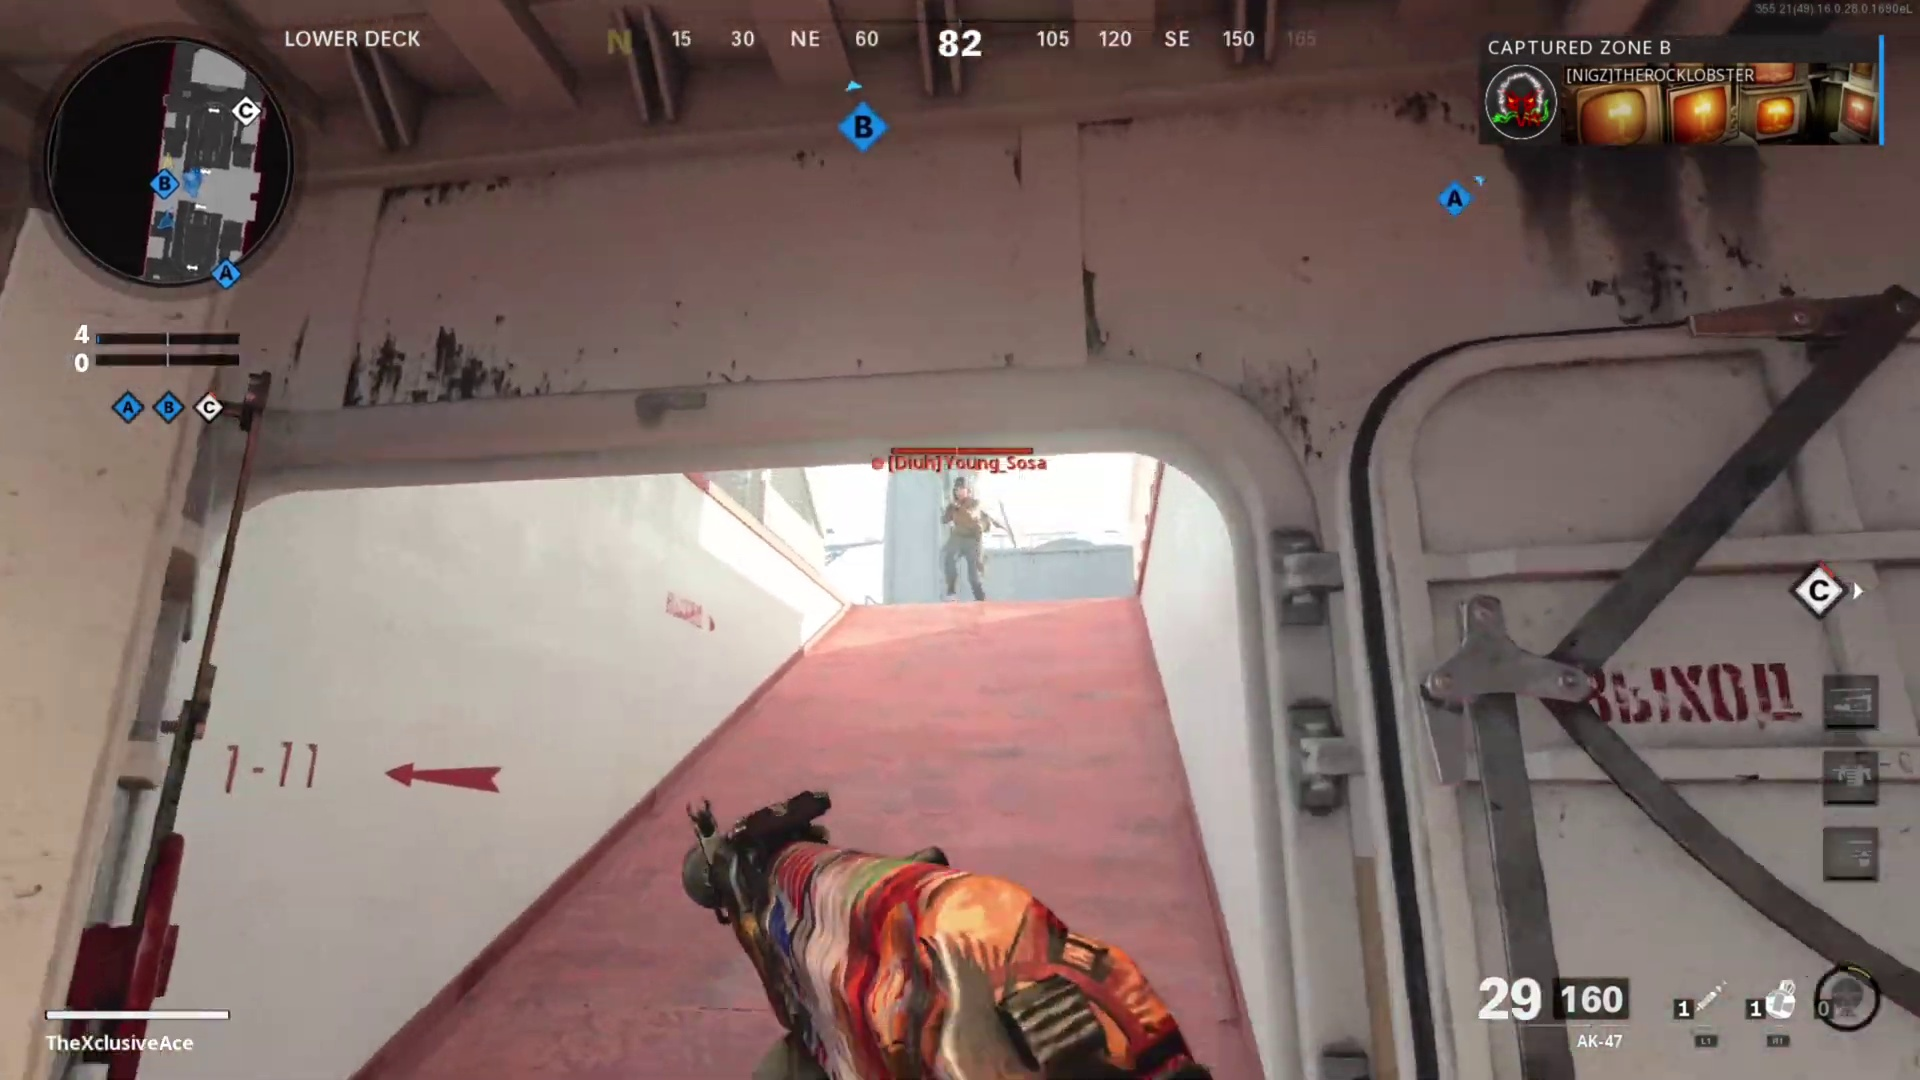head: (950, 483, 972, 520)
person: (937, 472, 993, 599)
